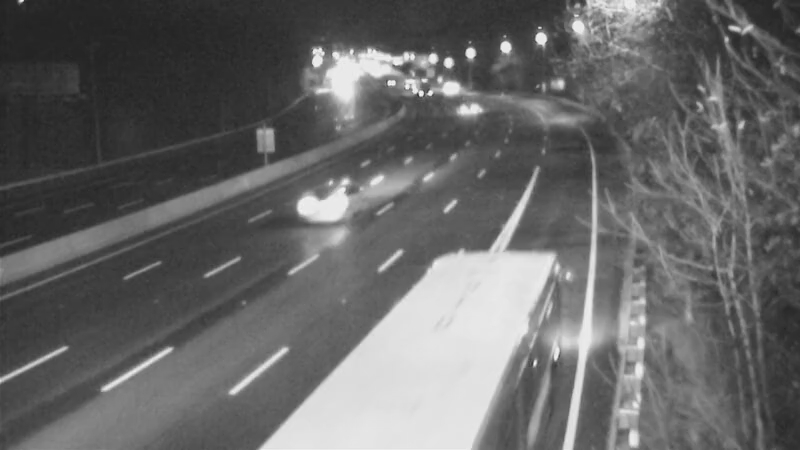vehicle: (360, 349, 470, 450), (295, 168, 375, 248), (394, 65, 444, 115), (449, 81, 499, 131)
